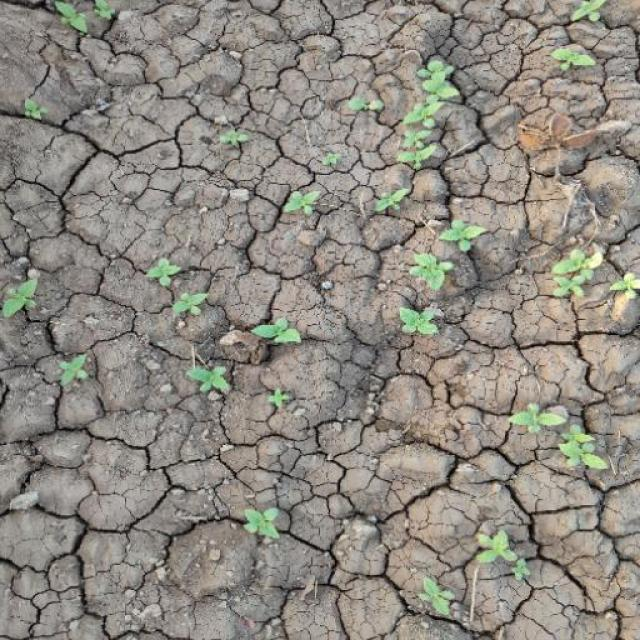crop: (505, 392, 610, 482), (395, 50, 456, 180), (549, 243, 640, 315), (139, 258, 211, 318), (182, 360, 232, 401), (246, 316, 302, 352), (396, 298, 445, 338), (440, 215, 489, 255), (407, 249, 452, 291), (55, 352, 94, 387)
